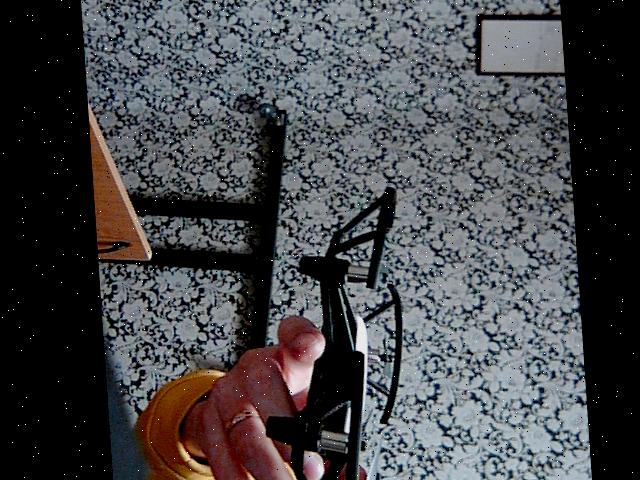drone: (238, 162, 434, 480)
